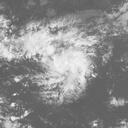cyclone: (38, 49, 91, 100)
